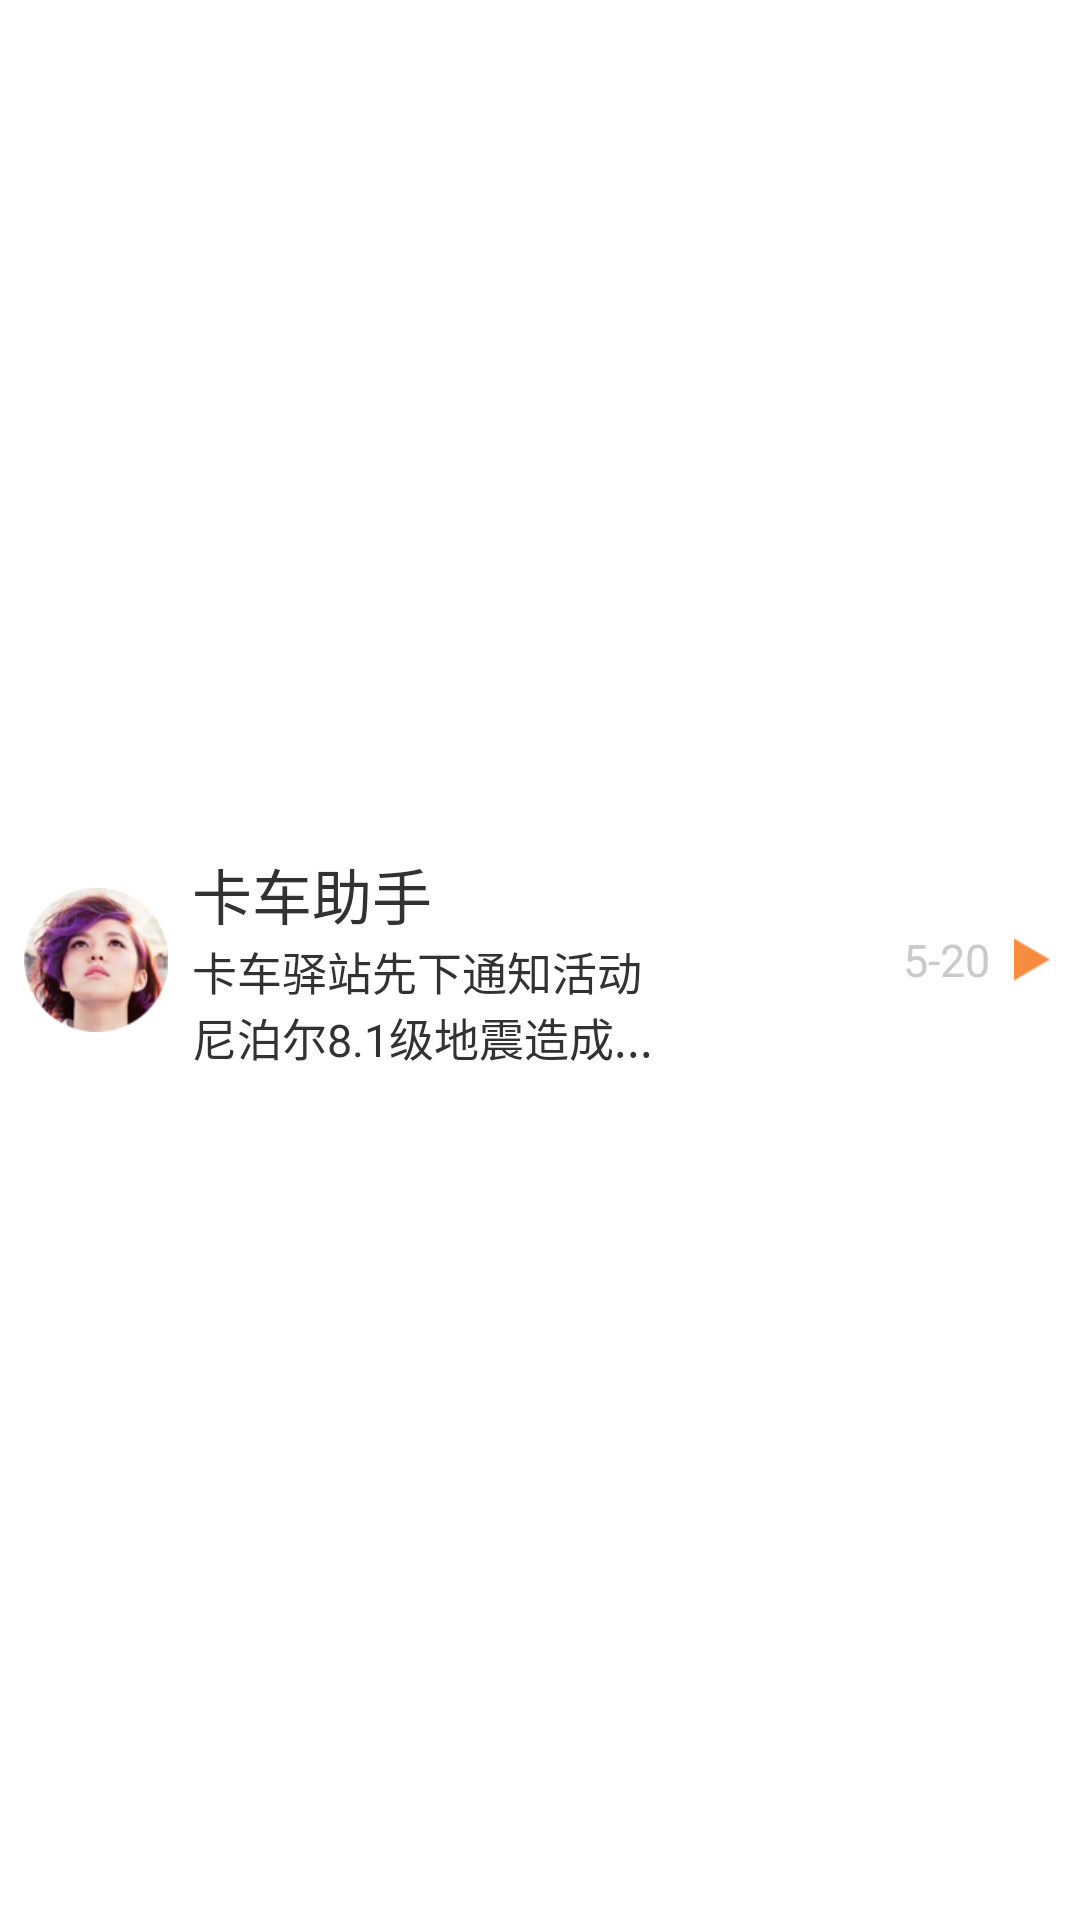

Screen size 1080w x 1920h. Icon name, then its center in pixels as (x=x, y=y):
head: (x=96, y=960)
